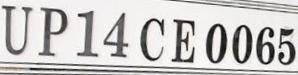0: (204, 18, 229, 68), (230, 20, 254, 69)
1: (76, 7, 100, 63)
4: (102, 6, 130, 63)
5: (278, 22, 298, 67)
6: (256, 21, 276, 68)
C: (139, 11, 167, 64)
E: (170, 11, 196, 65)
P: (38, 4, 69, 61)
U: (0, 2, 34, 57)
